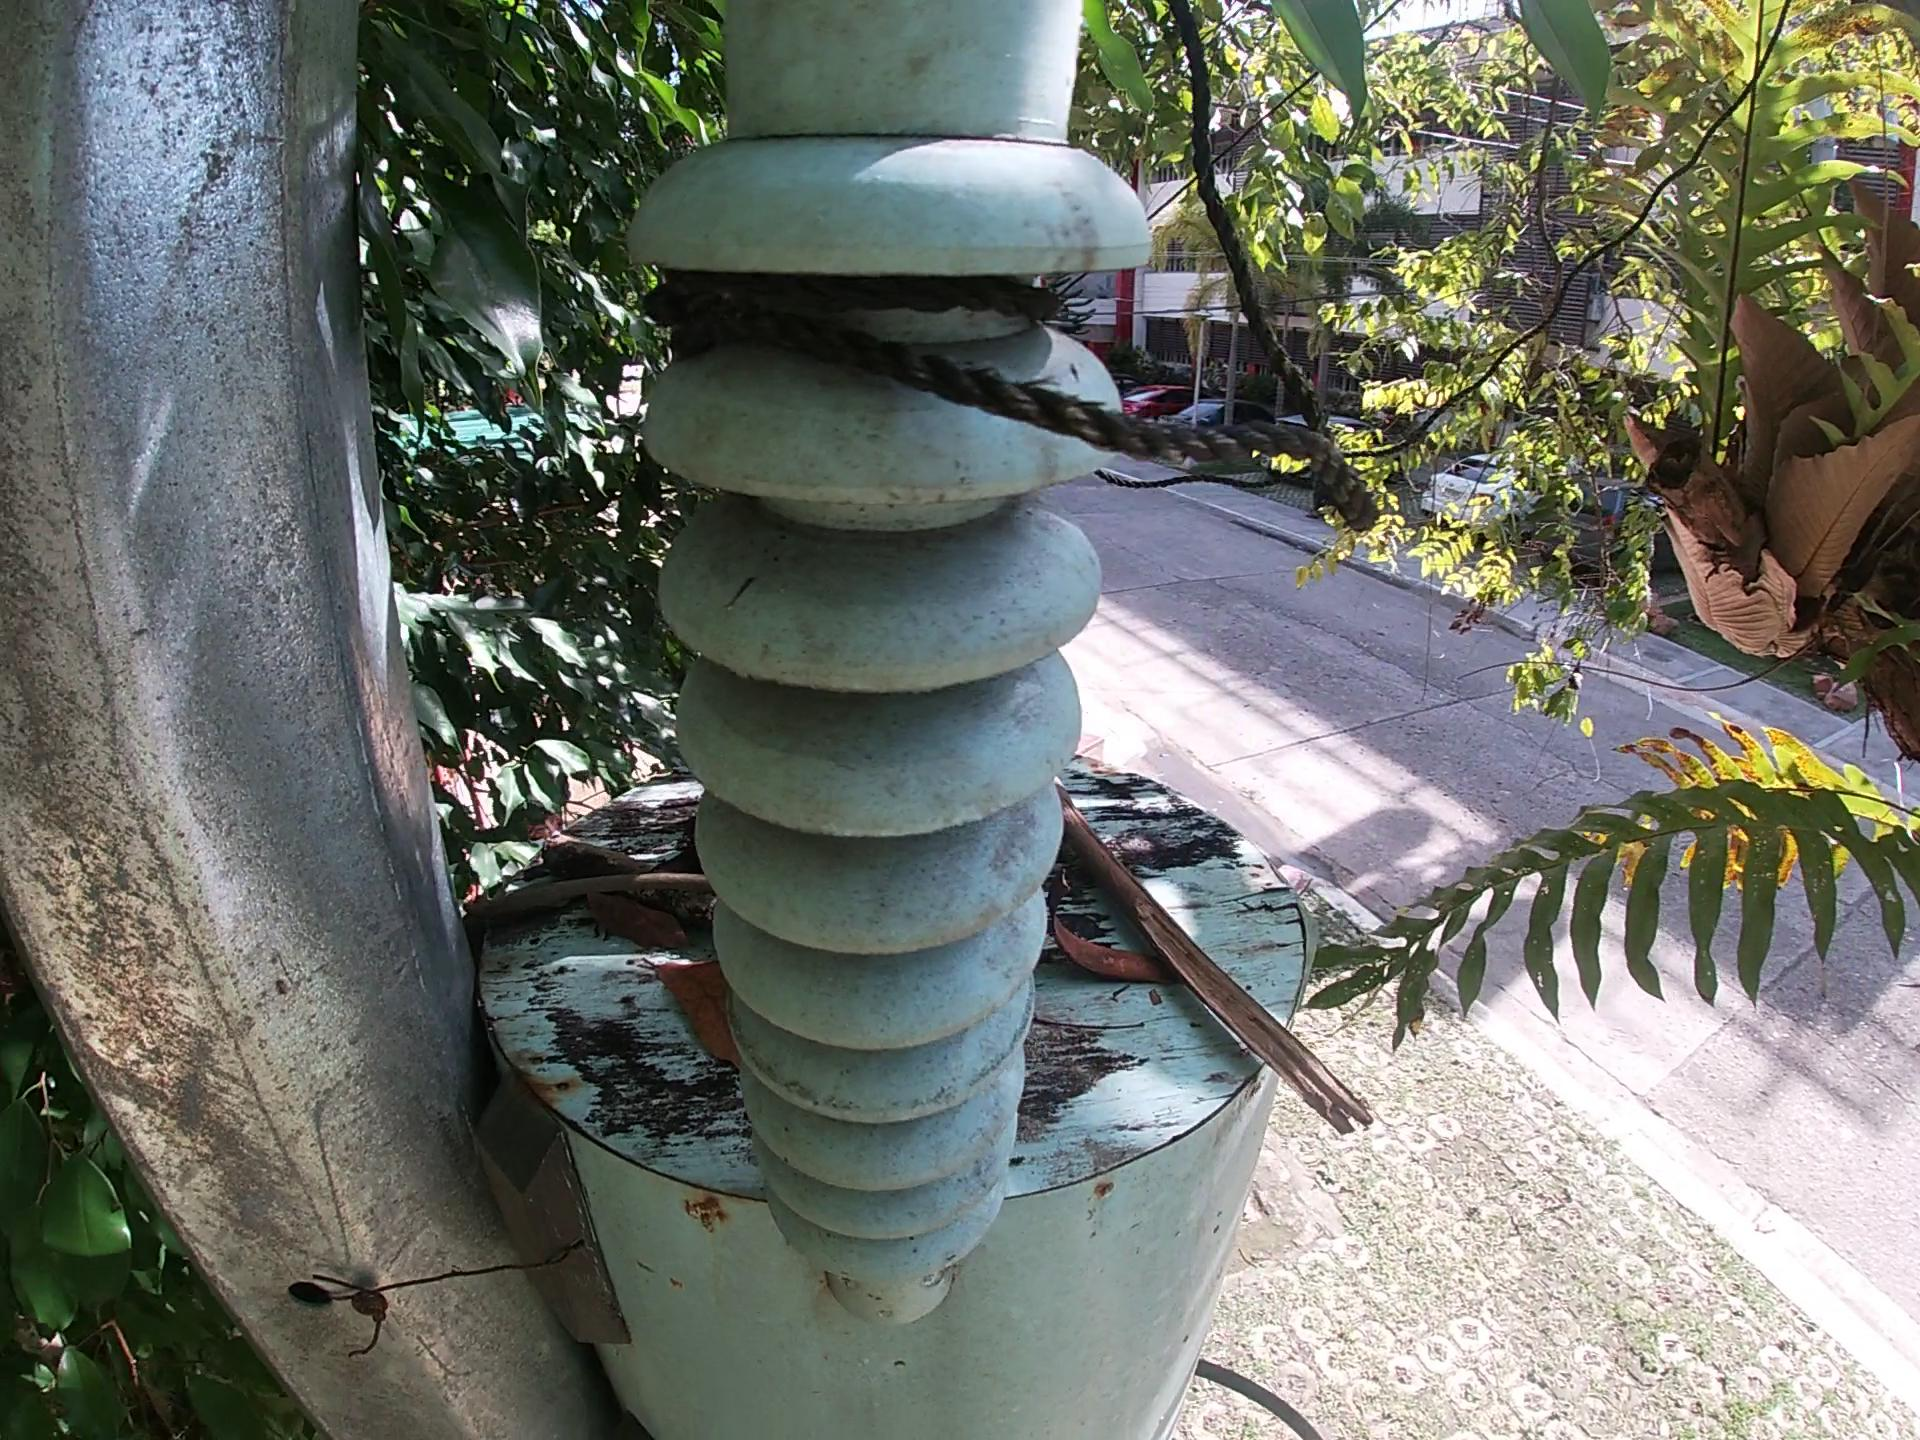leaf: (636, 954, 732, 1066), (584, 892, 694, 954), (475, 914, 541, 945), (636, 847, 692, 874)
mahogany fruit: (1042, 862, 1179, 1013)
tree branch: (1046, 764, 1373, 1165), (549, 823, 709, 930), (451, 874, 709, 930), (1037, 1013, 1149, 1036)
